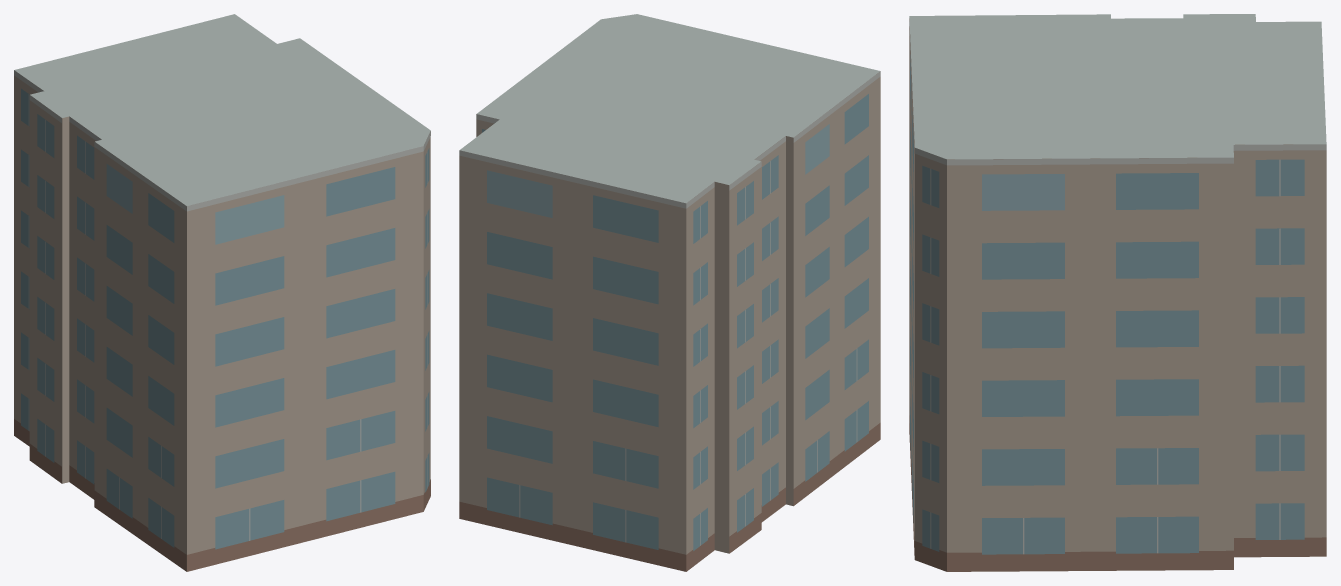
The model's file is survey-upis-32528207.glb.
3 views of the same model, side by side, from view 1: azimuth 30°, elevation 25°; view 2: azimuth 150°, elevation 25°; view 3: azimuth 270°, elevation 25° (orthographic). The views are drawn at different scales.
Visible parts, largest first — view 1: survey-upis-32528207.tmp; view 2: survey-upis-32528207.tmp; view 3: survey-upis-32528207.tmp.
Boxes of the visible parts, x1=… form: survey-upis-32528207.tmp: x1=14, y1=14, x2=430, y2=571; survey-upis-32528207.tmp: x1=459, y1=14, x2=880, y2=571; survey-upis-32528207.tmp: x1=909, y1=14, x2=1326, y2=571.
Bounding box in the file's own units: 12.64 × 16.7 × 15.32.
